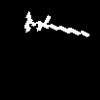double_crochet: (25, 12, 88, 35)
